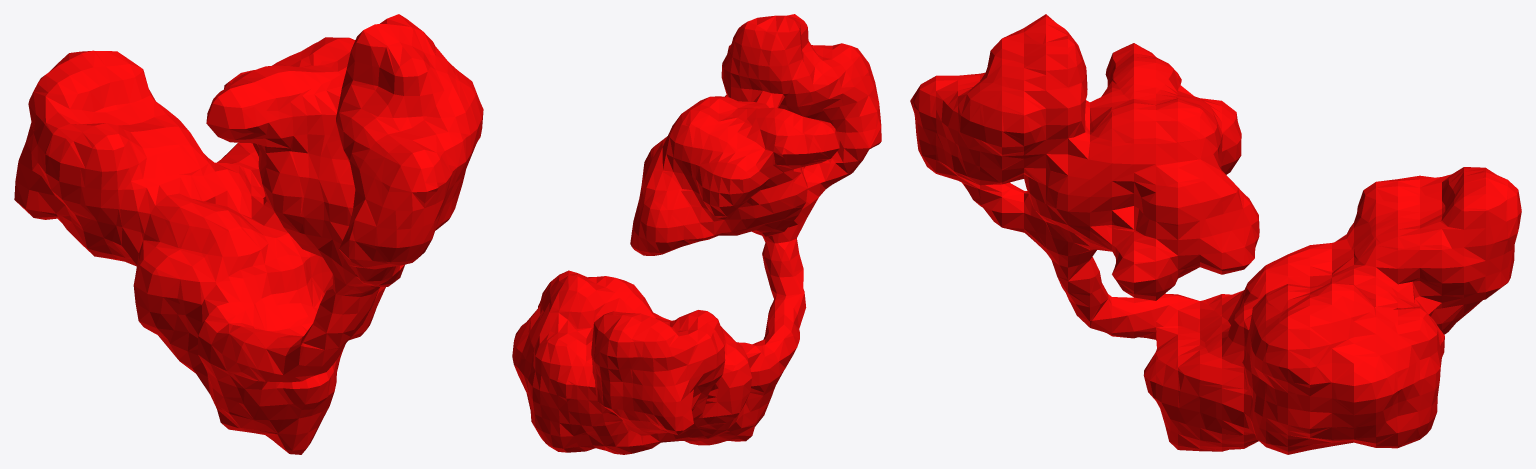
Rendered from pheT_coarse.dae.
3 renders of one model, left to right at view 1: azimuth 30°, elevation 25°; view 2: azimuth 150°, elevation 25°; view 3: azimuth 270°, elevation 25°, orthographic. The views are drawn at different scales.
Visible parts, largest first — view 1: pheT; view 2: pheT; view 3: pheT.
Part boxes in pixels (<box>): pheT: <box>14,14,483,454</box>; pheT: <box>512,14,881,454</box>; pheT: <box>910,14,1521,454</box>.
Size of the model in its own units: 68.38 by 107 by 137.
